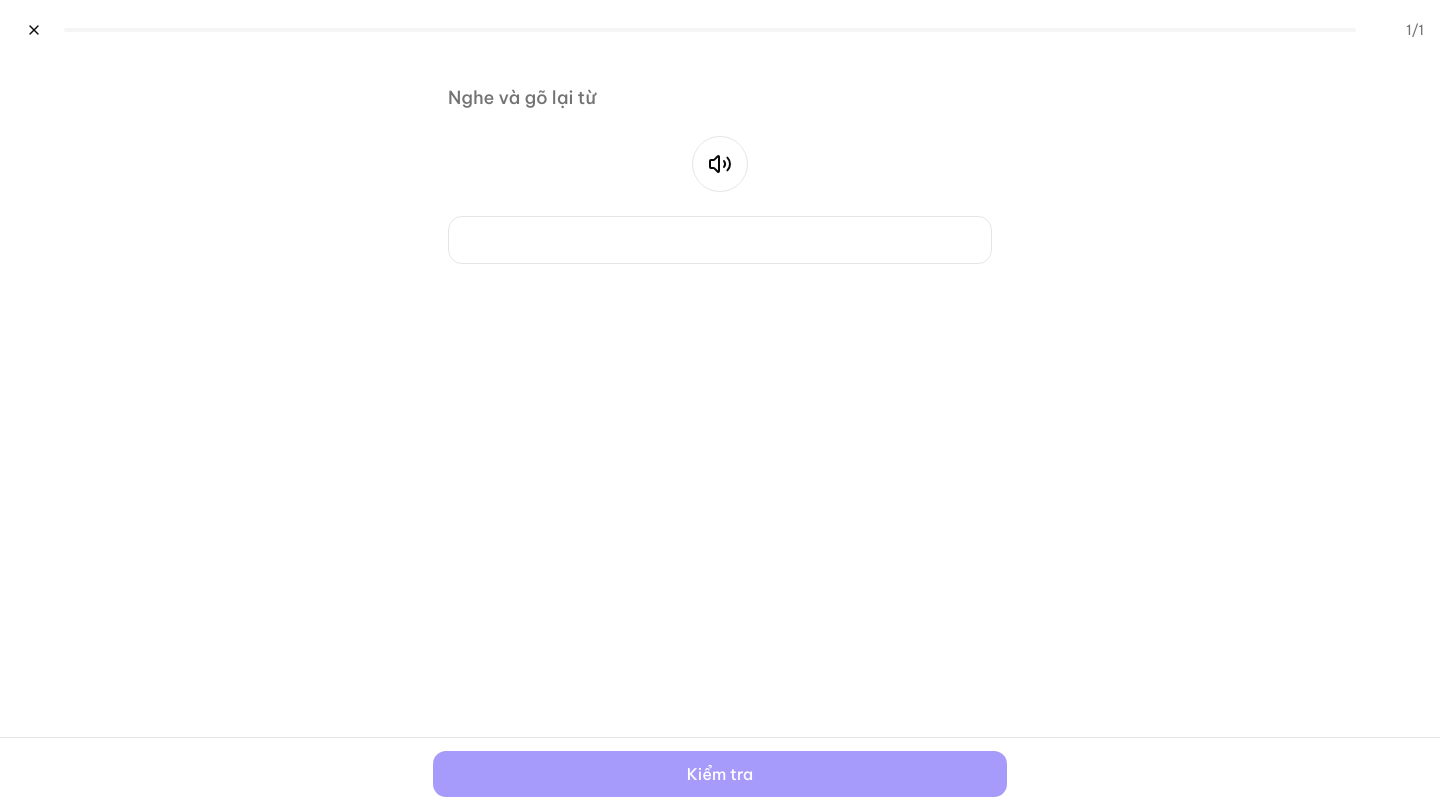
Test: ExerciseRunner › swaps a listening exercise for recall when the audio can't play
The image size is (1440, 810).
What coordinates should you click on to do the following:
click the button named "Nghe:"
I would click on:
 (720, 164)
Its box is left=692, top=136, right=748, bottom=192.
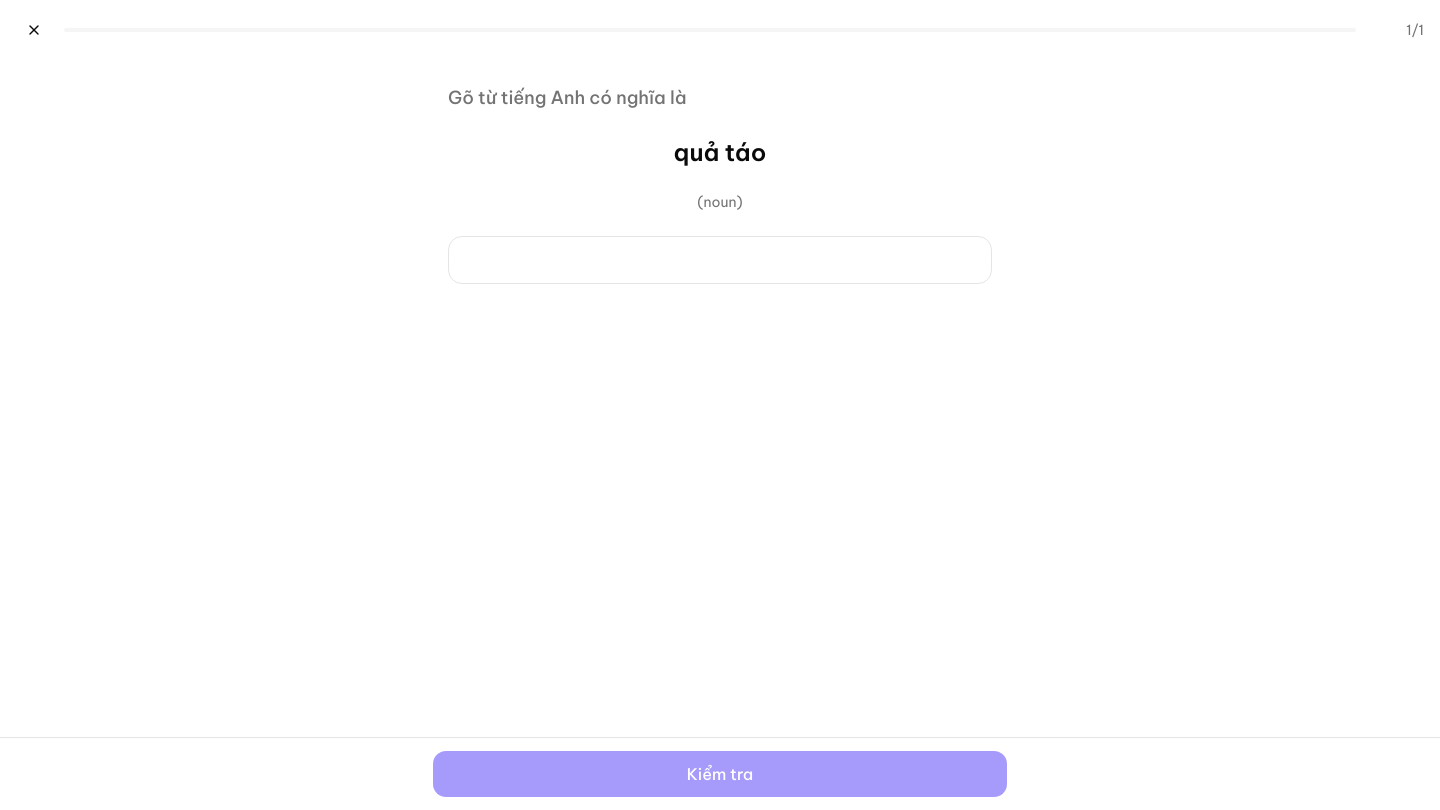
expect the heading "Gõ từ tiếng Anh có nghĩa là" is shown: met, box left=448, top=86, right=686, bottom=109
